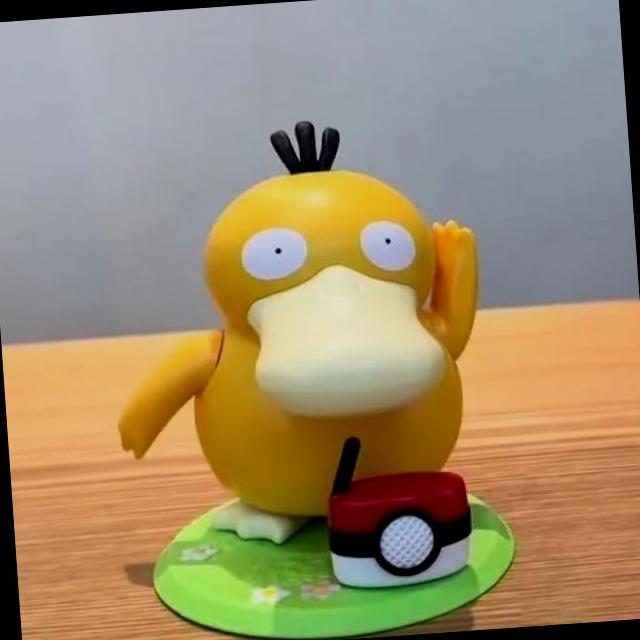Duck: (92, 81, 532, 556)
